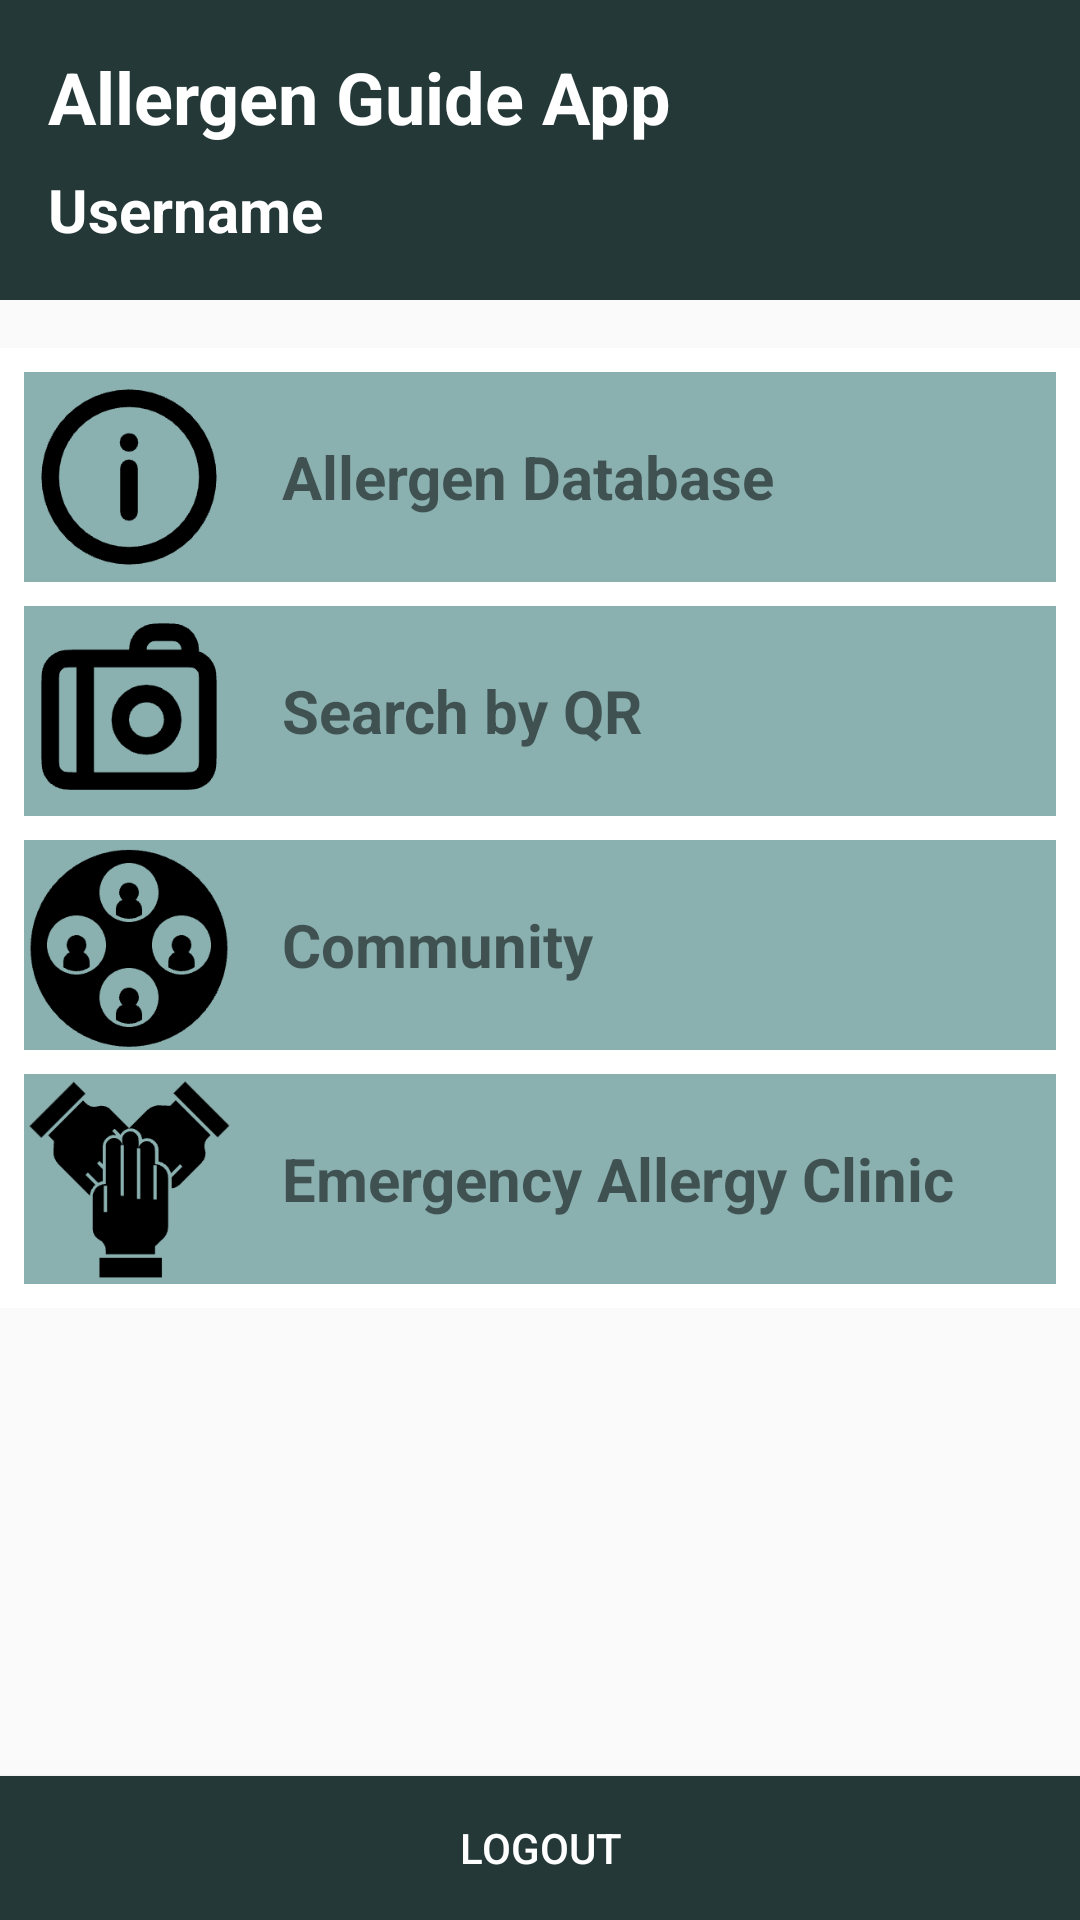

Icon click points for this 1080px x 1920px phone screenshot, format (x=x, y=y):
cam: (x=129, y=711)
hand: (x=129, y=1179)
info: (x=129, y=477)
